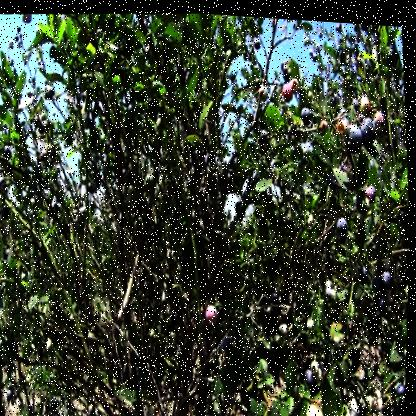intermediate: (284, 74, 301, 99), (207, 302, 222, 325), (366, 178, 379, 198), (375, 108, 388, 127)
mature: (346, 111, 377, 149), (376, 266, 395, 287), (379, 288, 395, 310), (224, 332, 236, 356), (337, 213, 350, 235), (400, 371, 408, 395), (362, 261, 371, 281), (305, 107, 314, 121), (312, 45, 320, 60), (362, 20, 371, 27)
young: (362, 91, 375, 111), (257, 81, 270, 101), (314, 355, 324, 374), (320, 115, 330, 131), (22, 14, 34, 26)
